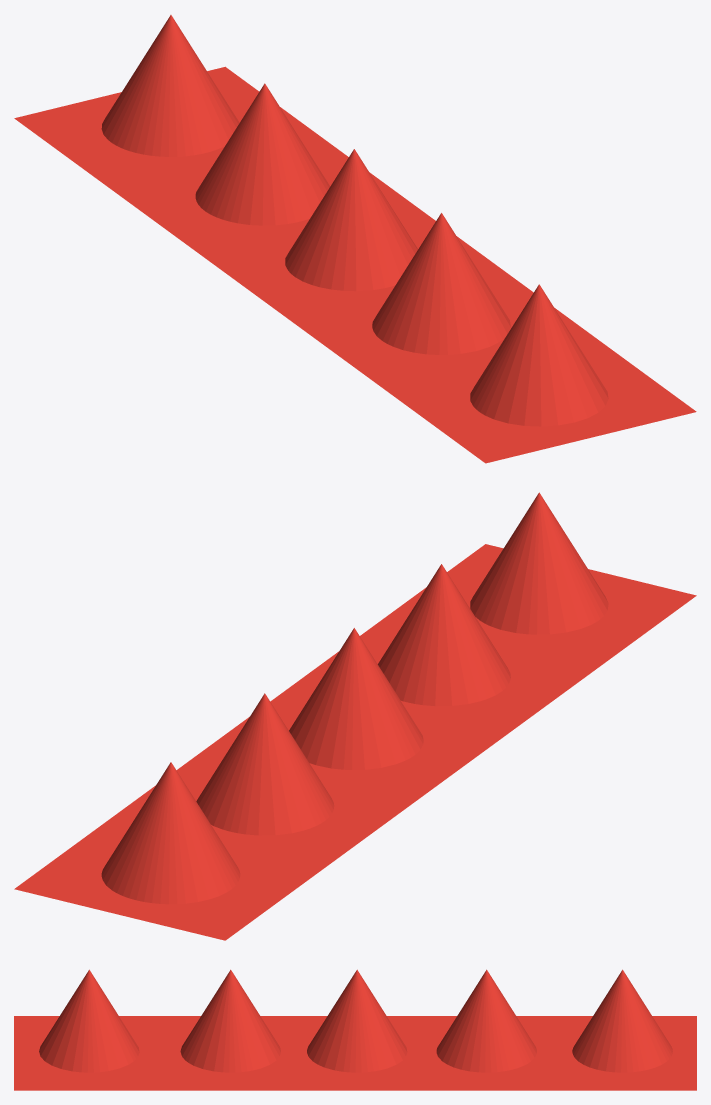
The model's file is Dikenli Engel.fbx.
3 renders of one model, top to bottom at view 1: azimuth 30°, elevation 25°; view 2: azimuth 150°, elevation 25°; view 3: azimuth 270°, elevation 25°, orthographic. The views are drawn at different scales.
Parts seen in each view (by area): view 1: obstacle; view 2: obstacle; view 3: obstacle.
Part boxes in pixels (x1,y1,x2,y2): obstacle: [14, 15, 696, 463]; obstacle: [14, 492, 696, 940]; obstacle: [14, 969, 696, 1090].
Bounding box in the file's own units: 15.08 × 7.89 × 58.29.
